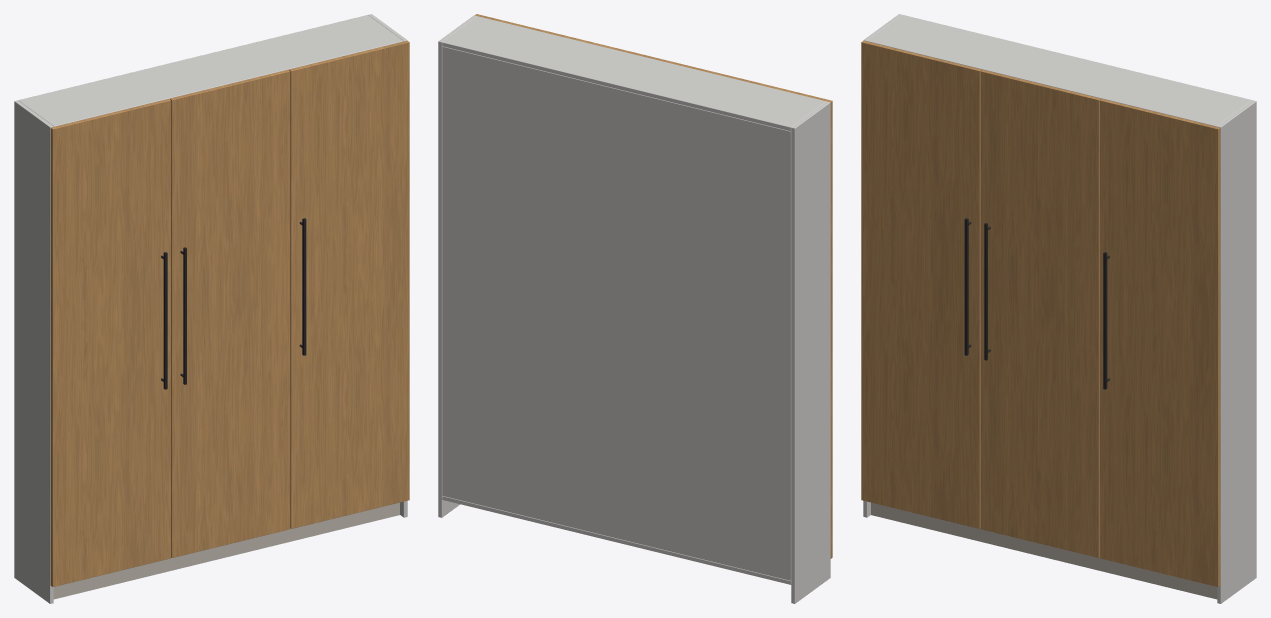
Rendered from storage_cabinet.glb.
3 renders of one model, left to right at view 1: azimuth 30°, elevation 25°; view 2: azimuth 150°, elevation 25°; view 3: azimuth 330°, elevation 25°, orthographic.
Visible parts, largest first — view 1: storage_cabinet_door_1, storage_cabinet_door_3, storage_cabinet_door_2, storage_cabinet_carcass, storage_cabinet_plinth, storage_cabinet_handle_3, storage_cabinet_handle_1, storage_cabinet_handle_2; view 2: storage_cabinet_carcass, storage_cabinet_door_1; view 3: storage_cabinet_door_3, storage_cabinet_door_1, storage_cabinet_door_2, storage_cabinet_carcass, storage_cabinet_plinth, storage_cabinet_handle_1, storage_cabinet_handle_3, storage_cabinet_handle_2.
Boxes of the visible parts, box(x1,y1,x2,y2) form: storage_cabinet_door_1: box(50, 99, 171, 586); storage_cabinet_door_3: box(289, 40, 409, 528); storage_cabinet_door_2: box(170, 70, 290, 557); storage_cabinet_carcass: box(14, 14, 407, 603); storage_cabinet_plinth: box(53, 502, 399, 599); storage_cabinet_handle_3: box(299, 218, 306, 355); storage_cabinet_handle_1: box(161, 252, 167, 389); storage_cabinet_handle_2: box(180, 247, 186, 384); storage_cabinet_carcass: box(438, 15, 830, 603); storage_cabinet_door_1: box(713, 72, 832, 558); storage_cabinet_door_3: box(1099, 99, 1220, 586); storage_cabinet_door_1: box(861, 40, 981, 528); storage_cabinet_door_2: box(980, 70, 1100, 557); storage_cabinet_carcass: box(863, 14, 1256, 603); storage_cabinet_plinth: box(871, 502, 1217, 599); storage_cabinet_handle_1: box(964, 218, 971, 355); storage_cabinet_handle_3: box(1103, 252, 1109, 389); storage_cabinet_handle_2: box(984, 223, 990, 360).
Bounding box in the file's own units: 1.65 × 2.1 × 0.341.
4 materials, 1 textured.
